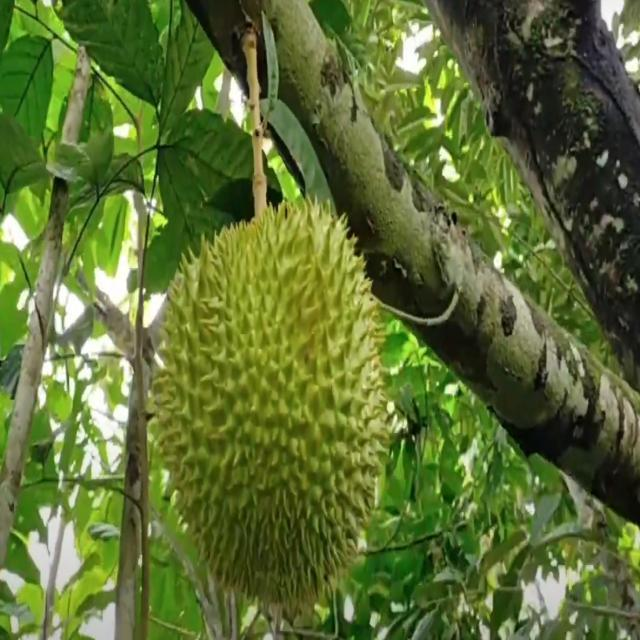immature: (151, 196, 390, 615)
